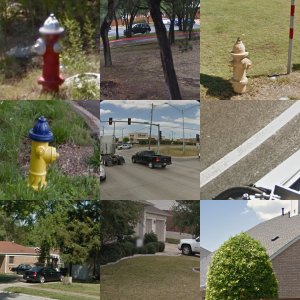汽車: (129, 146, 176, 172), (23, 263, 67, 286), (100, 131, 124, 168), (176, 231, 199, 256)
消防栓: (19, 113, 70, 197), (28, 10, 75, 98), (227, 38, 258, 95)
